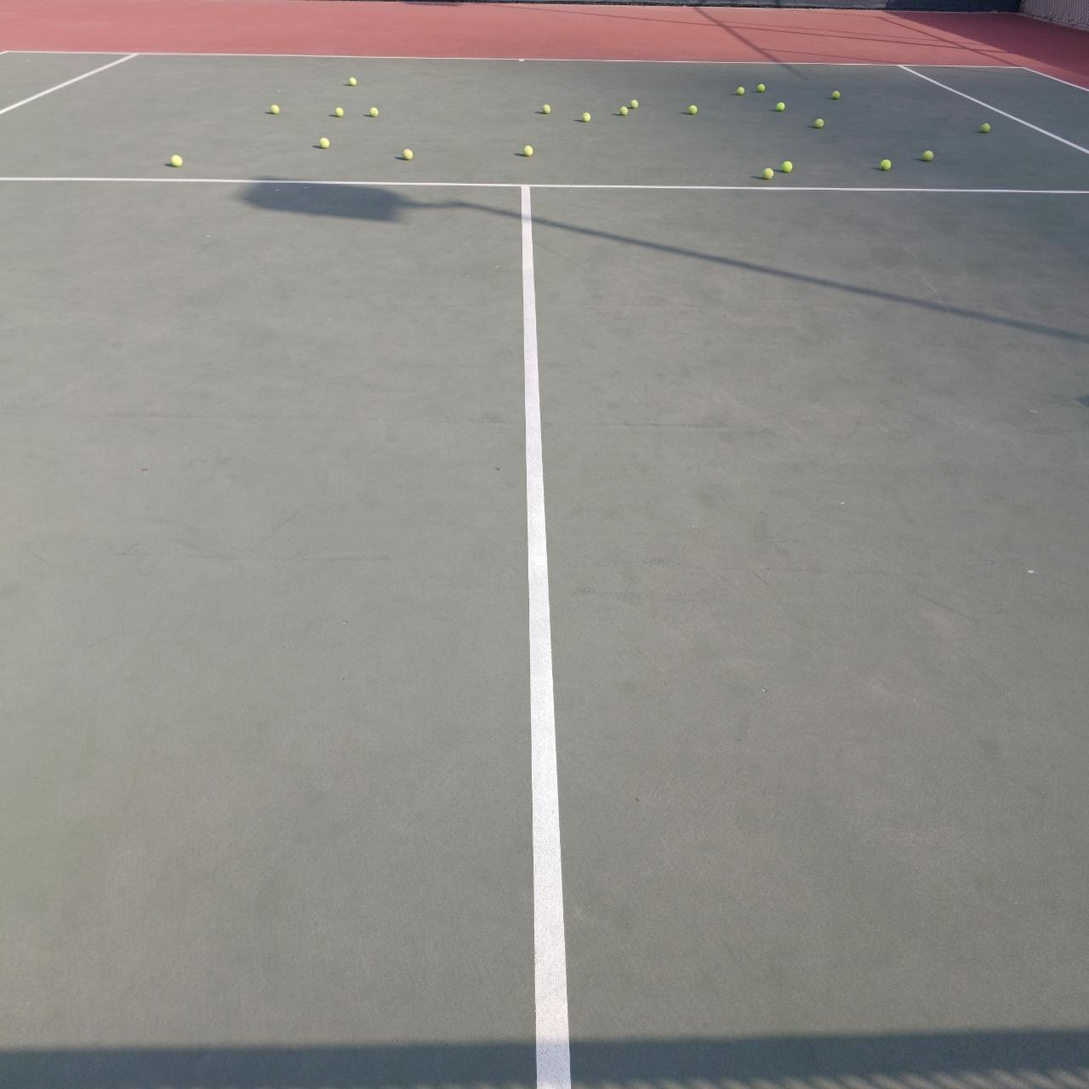tennis-ball: (168, 152, 182, 167), (761, 167, 774, 180), (921, 148, 933, 162), (781, 160, 793, 173), (402, 147, 413, 161), (522, 144, 533, 157), (318, 137, 330, 148), (369, 106, 380, 117), (334, 106, 345, 117), (880, 159, 891, 170), (270, 103, 280, 115), (541, 103, 551, 115), (980, 122, 990, 133), (581, 111, 591, 122), (814, 118, 824, 128), (688, 105, 697, 115), (619, 106, 628, 116), (348, 77, 357, 86), (630, 99, 639, 108), (776, 102, 785, 111), (757, 84, 766, 93), (831, 90, 840, 99), (736, 87, 744, 94)
